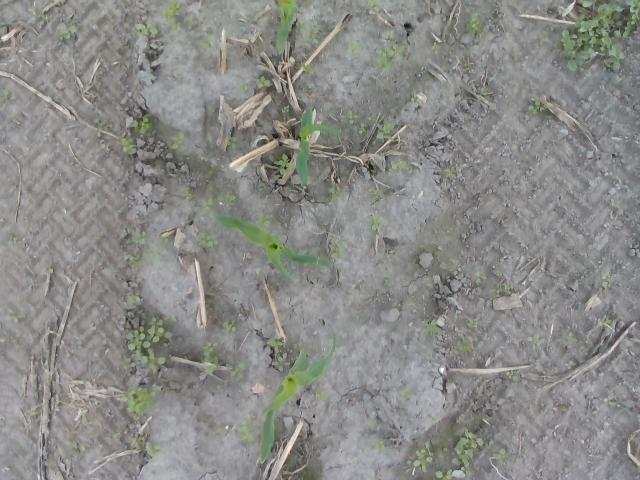Maize: (258, 330, 338, 464), (184, 214, 336, 282), (294, 107, 340, 184), (274, 0, 298, 55)
Weeds: (561, 0, 640, 85), (122, 314, 177, 374), (452, 428, 484, 477), (122, 386, 160, 421), (375, 44, 405, 72), (157, 0, 181, 34), (143, 238, 169, 265), (412, 442, 433, 473), (202, 341, 219, 375), (238, 415, 260, 440), (130, 113, 154, 135), (254, 209, 274, 235), (274, 154, 296, 174), (135, 18, 158, 36), (328, 240, 348, 260), (366, 214, 388, 232), (466, 11, 482, 35), (528, 98, 552, 114), (56, 23, 78, 40), (225, 134, 248, 150), (216, 192, 236, 210), (422, 318, 441, 336), (170, 131, 187, 151), (376, 123, 396, 140), (196, 232, 217, 248), (345, 40, 364, 57), (225, 362, 244, 379), (125, 231, 146, 246), (124, 253, 142, 270), (266, 334, 283, 352), (147, 444, 163, 463), (271, 355, 290, 371), (453, 339, 472, 355), (93, 118, 109, 136), (492, 449, 511, 464), (0, 90, 17, 106), (304, 26, 319, 44), (328, 187, 345, 202), (492, 283, 511, 296), (120, 137, 136, 152), (222, 319, 237, 335), (341, 110, 357, 125), (300, 61, 315, 76), (4, 308, 19, 323), (200, 36, 214, 52), (391, 160, 407, 174), (398, 386, 412, 401), (200, 197, 213, 213), (602, 271, 614, 288), (528, 334, 545, 346), (236, 80, 250, 94), (30, 6, 46, 18), (254, 76, 270, 88), (435, 469, 452, 480), (444, 166, 461, 177), (64, 440, 78, 453), (372, 439, 386, 452), (410, 90, 420, 108), (180, 187, 193, 200), (366, 0, 380, 12), (132, 436, 144, 450), (315, 387, 327, 401), (538, 30, 550, 44), (604, 395, 617, 407), (431, 41, 442, 55), (372, 188, 386, 199), (41, 263, 54, 274), (476, 270, 486, 284), (127, 294, 141, 304), (564, 332, 578, 342), (295, 21, 306, 33), (598, 317, 612, 326), (216, 420, 226, 432), (386, 28, 396, 40), (506, 370, 518, 380), (358, 122, 367, 134), (368, 415, 376, 428), (610, 198, 620, 208), (256, 182, 266, 192), (480, 86, 490, 96), (467, 319, 478, 328), (359, 446, 366, 458), (422, 346, 432, 354), (566, 361, 576, 369), (366, 116, 378, 122), (354, 310, 361, 320), (384, 278, 392, 286), (187, 20, 194, 29), (282, 106, 290, 112), (494, 270, 501, 276), (370, 168, 377, 174)
